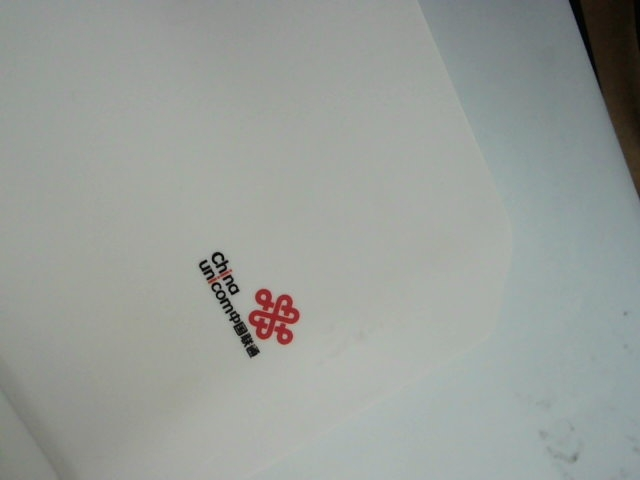ChinaUnicom: (185, 245, 312, 364)
